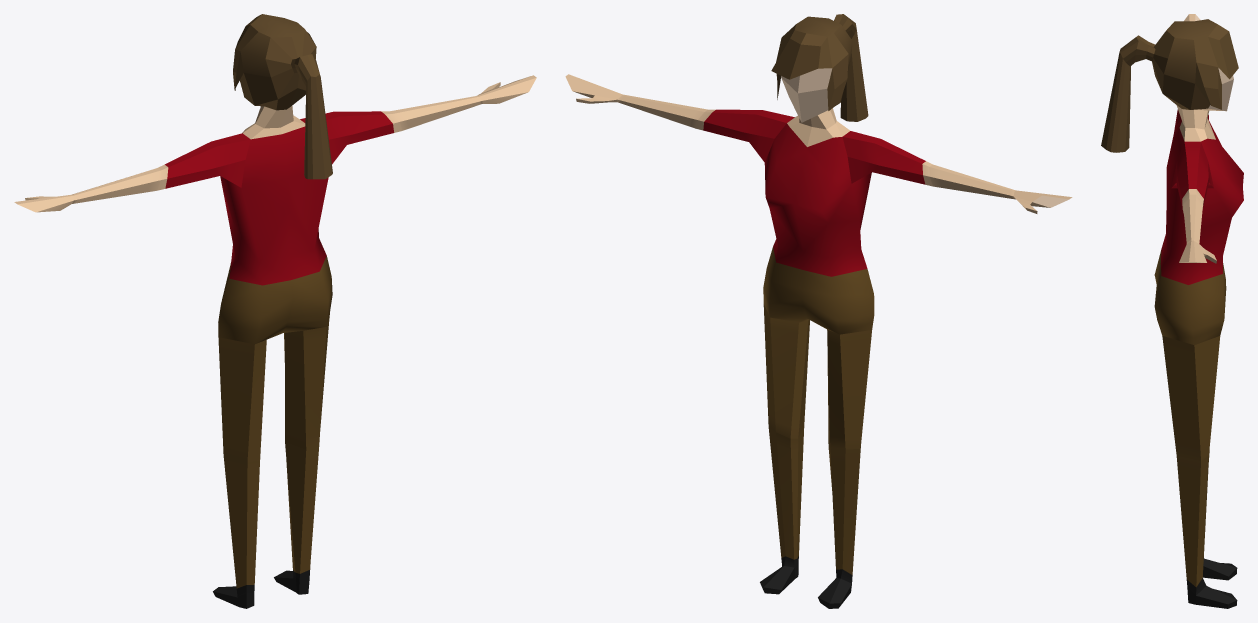
The model's file is FinalMCModel.fbx.
3 renders of one model, left to right at view 1: azimuth 30°, elevation 25°; view 2: azimuth 150°, elevation 25°; view 3: azimuth 270°, elevation 25°, orthographic. The views are drawn at different scales.
Visible parts, largest first — view 1: pasted__pSphere3; view 2: pasted__pSphere3; view 3: pasted__pSphere3.
Boxes of the visible parts, box(x1,y1,x2,y2) form: pasted__pSphere3: box(14, 14, 536, 608); pasted__pSphere3: box(565, 14, 1072, 608); pasted__pSphere3: box(1101, 14, 1243, 608).
Bounding box in the file's own units: 10.94 × 11.66 × 2.66.
